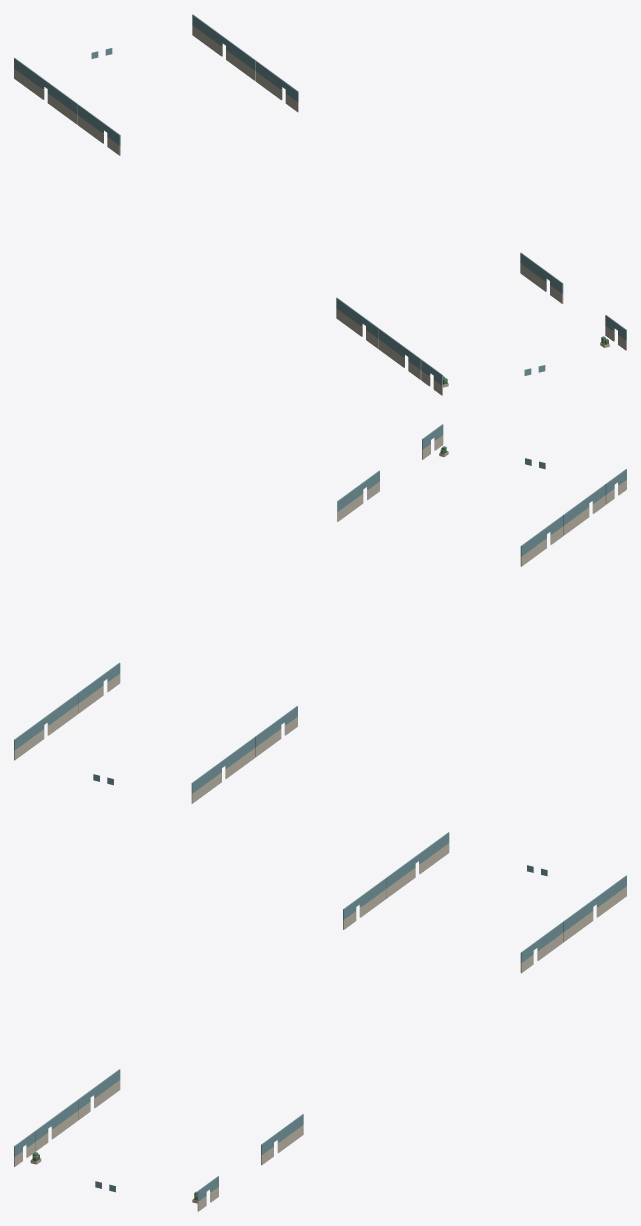
The model's file is D04_STARBOARD_AFT_COURT_PATCH_r001.glb.
The picture shows the model from 3 angles, top to bottom: view 1: azimuth 30°, elevation 25°; view 2: azimuth 150°, elevation 25°; view 3: azimuth 330°, elevation 25°; orthographic projection.
Parts seen in each view (by area): view 1: SAK_D04HC5_east_GlassUpper, SAK_D04HC5_west_GlassUpper, SAK_D04HC5_east_PrivacyScreen, SAK_D04HC5_west_PrivacyScreen; view 2: SAK_D04HC5_east_GlassUpper, SAK_D04HC5_west_GlassUpper, SAK_D04HC5_west_PrivacyScreen, SAK_D04HC5_east_PrivacyScreen; view 3: SAK_D04HC5_west_GlassUpper, SAK_D04HC5_east_GlassUpper, SAK_D04HC5_west_PrivacyScreen, SAK_D04HC5_east_PrivacyScreen.
Part boxes in pixels (x1,y1,x2,y2): SAK_D04HC5_east_GlassUpper: (14, 58, 77, 114); SAK_D04HC5_west_GlassUpper: (192, 14, 256, 70); SAK_D04HC5_east_PrivacyScreen: (14, 68, 77, 124); SAK_D04HC5_west_PrivacyScreen: (192, 25, 255, 81); SAK_D04HC5_east_GlassUpper: (191, 737, 255, 793); SAK_D04HC5_west_GlassUpper: (14, 693, 77, 750); SAK_D04HC5_west_PrivacyScreen: (14, 704, 77, 760); SAK_D04HC5_east_PrivacyScreen: (191, 748, 255, 803); SAK_D04HC5_west_GlassUpper: (563, 875, 626, 931); SAK_D04HC5_east_GlassUpper: (385, 832, 449, 888); SAK_D04HC5_west_PrivacyScreen: (563, 886, 626, 942); SAK_D04HC5_east_PrivacyScreen: (386, 843, 449, 898).
Size of the model in its own units: 37.2 by 3.96 by 151.
Materials: 5 (3 with a texture image).
